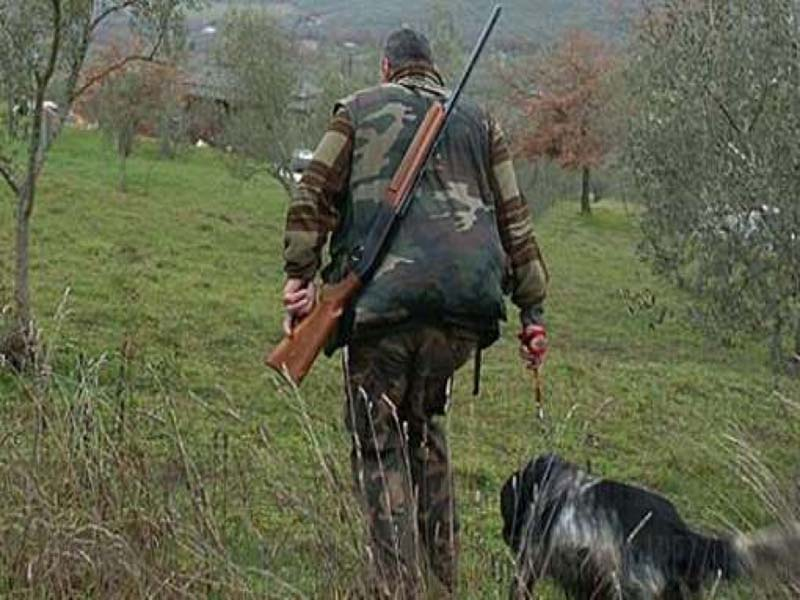cacciatore: (322, 2, 554, 571)
cane da caccia: (492, 442, 792, 596)
fucile: (252, 2, 501, 389)
